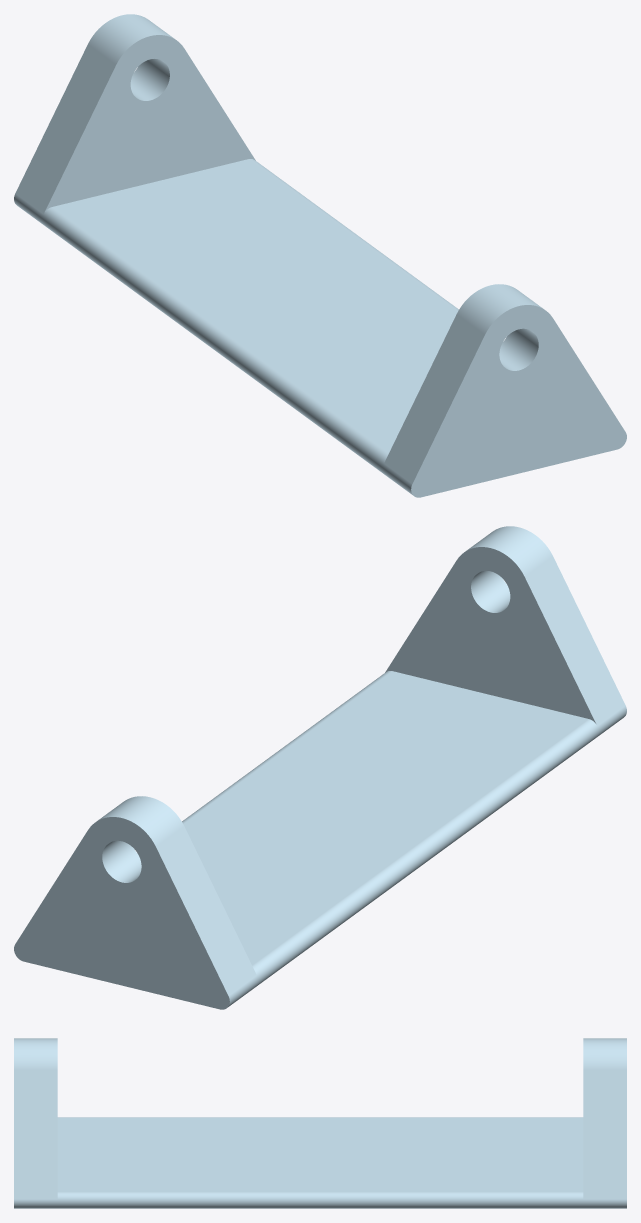
File: Part Studio 4 - Part 1.gltf
3 views of the same model, one above another, from view 1: azimuth 30°, elevation 25°; view 2: azimuth 150°, elevation 25°; view 3: azimuth 270°, elevation 25° (orthographic). The views are drawn at different scales.
Parts seen in each view (by area): view 1: Part 1; view 2: Part 1; view 3: Part 1.
Boxes of the visible parts, x1=… form: Part 1: x1=14, y1=14, x2=626, y2=497; Part 1: x1=14, y1=526, x2=626, y2=1009; Part 1: x1=14, y1=1038, x2=626, y2=1208.
Size of the model in its own units: 0.1098 by 0.0815 by 0.35.
